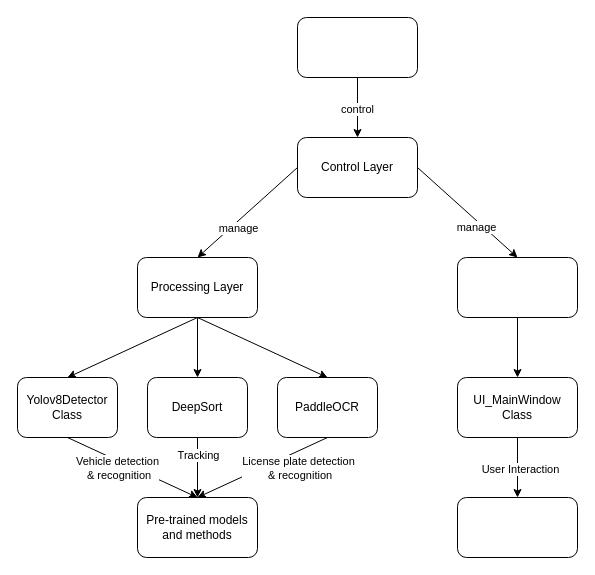
Some shapes in this 595 by 575 pixel diagram are drawn without their labels. Each missing label, with the centre of its shape:
"Interface Layer" goes at [517,287].
"MainWindow Class" goes at [357,47].
"User Interface Elements" goes at [517,527].
